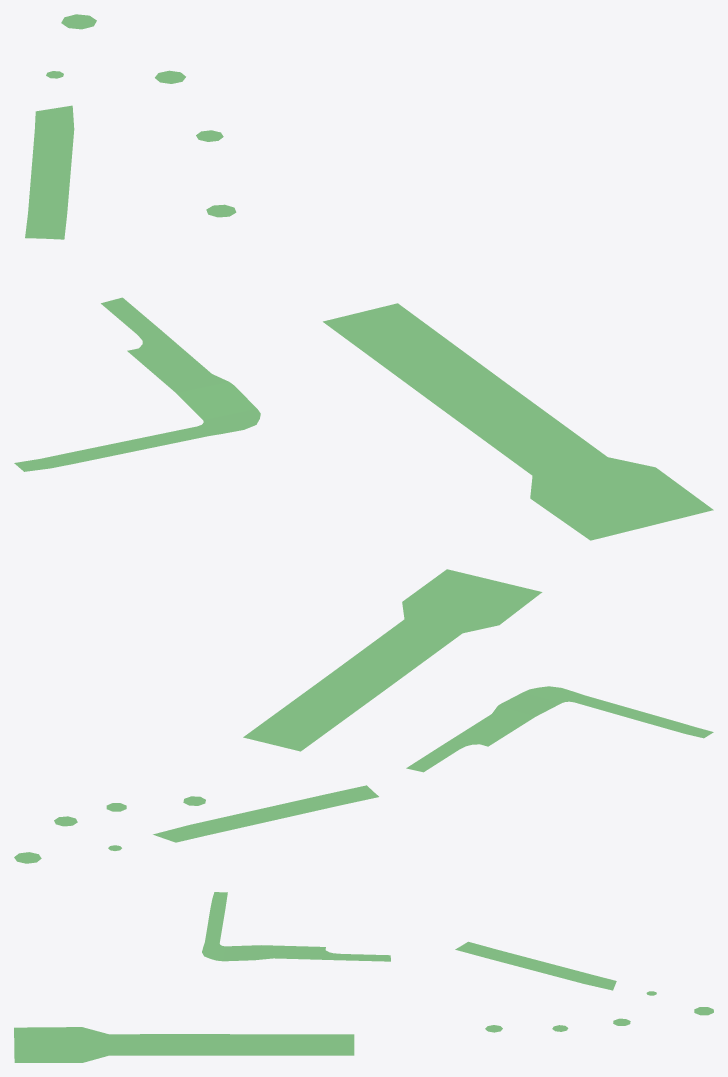
The model's file is road_stone.obj.
3 renders of one model, top to bottom at view 1: azimuth 30°, elevation 25°; view 2: azimuth 150°, elevation 25°; view 3: azimuth 270°, elevation 25°, orthographic. The views are drawn at different scales.
Bounding box in the file's own units: 206 × 25.39 × 412.
